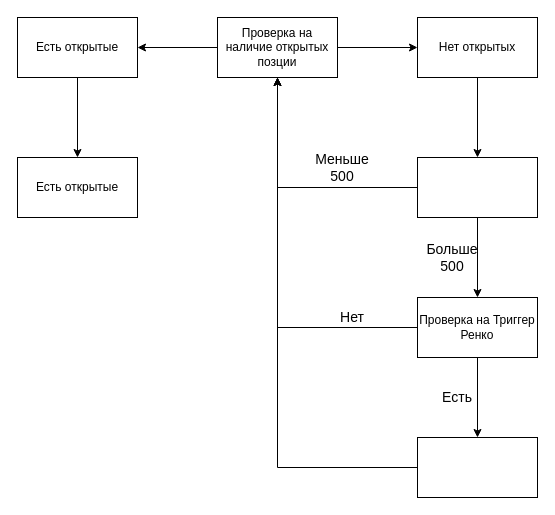
The diagram is 555 pixels wide and 515 high, and some of its shapes have lost their labels. Here are the shapes that lost their labels. From the top down, the centre of each, then its label:
point (477, 187): Проверка диапазона BB > 500$
point (477, 467): Открытые позиции
